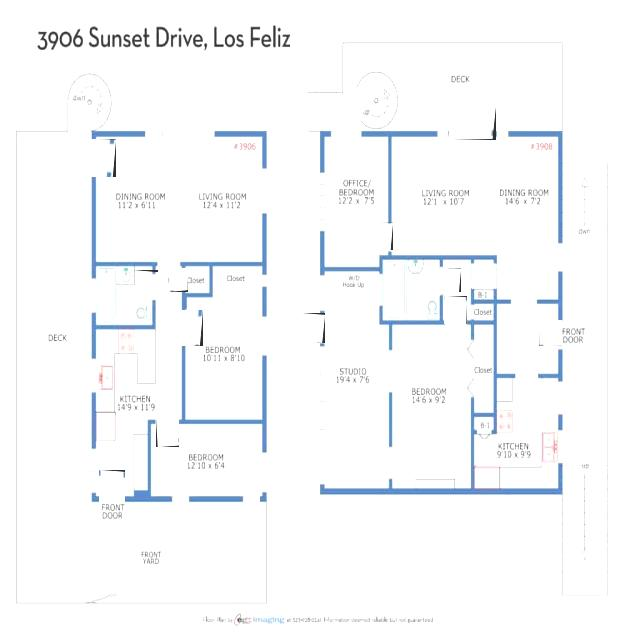door: (448, 106, 496, 140), (90, 139, 116, 177), (99, 470, 125, 502), (181, 310, 203, 346), (132, 270, 158, 298), (301, 313, 325, 343), (368, 222, 393, 250), (156, 417, 179, 447), (444, 296, 467, 324), (539, 320, 562, 346), (168, 268, 188, 292), (441, 268, 461, 292)
